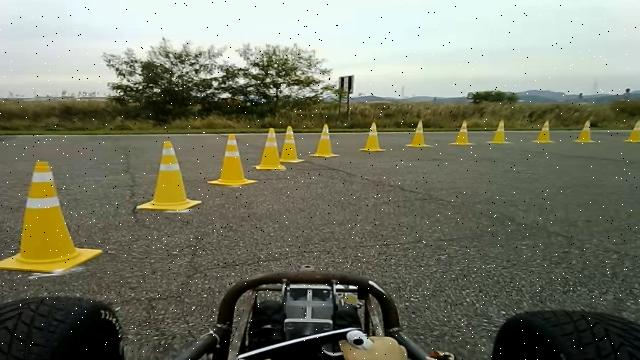yellow cone: (0, 160, 104, 273), (136, 140, 202, 211), (207, 134, 258, 186), (254, 127, 287, 170), (310, 123, 340, 158), (280, 125, 305, 163), (359, 121, 386, 152), (406, 120, 434, 147), (449, 120, 476, 146), (486, 118, 512, 144), (532, 119, 556, 143), (573, 119, 597, 143), (624, 118, 640, 142)
